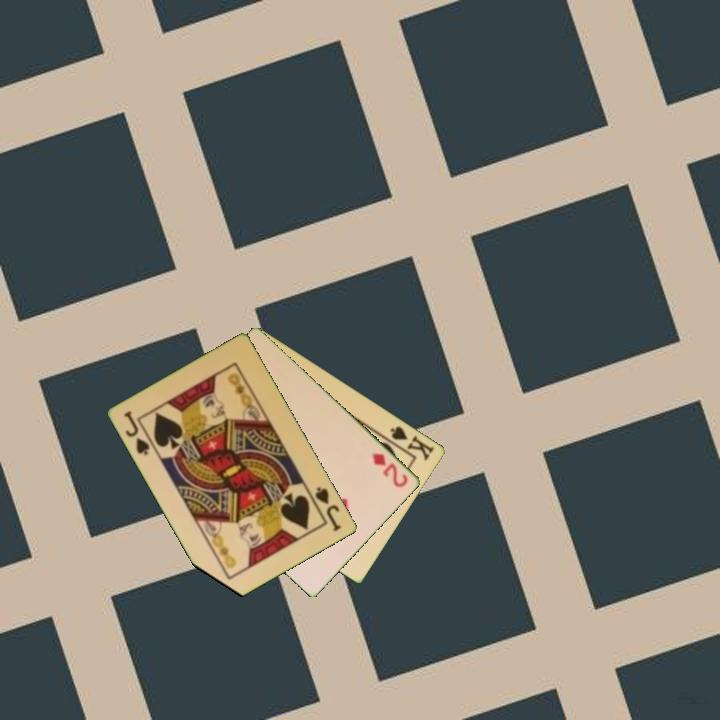2d: (369, 449, 411, 491)
Js: (312, 483, 344, 534), (121, 407, 153, 458)
Ks: (382, 422, 438, 463)
